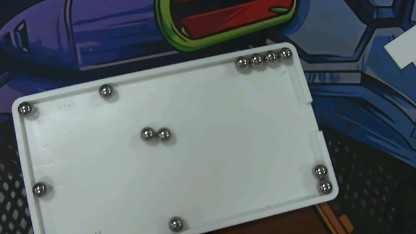ironball: (28, 179, 54, 199), (93, 78, 116, 100), (277, 40, 296, 66), (263, 46, 281, 70), (15, 98, 35, 118), (165, 215, 186, 232), (138, 123, 154, 142), (231, 52, 245, 71), (248, 51, 263, 66), (311, 164, 328, 177), (316, 179, 330, 194), (157, 125, 169, 141)
